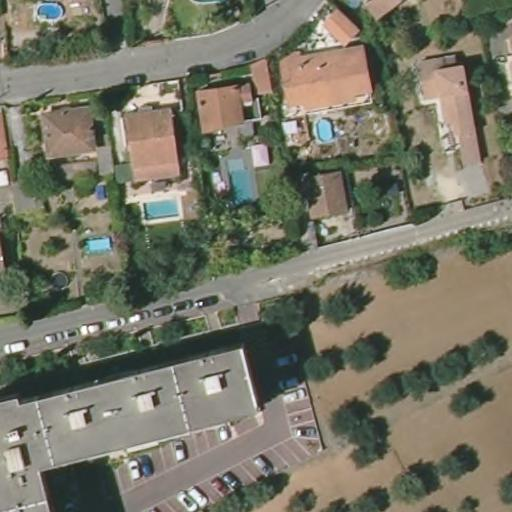pool: (221, 156, 260, 208), (136, 196, 189, 223), (77, 231, 118, 258), (30, 0, 66, 24), (312, 114, 335, 143)
